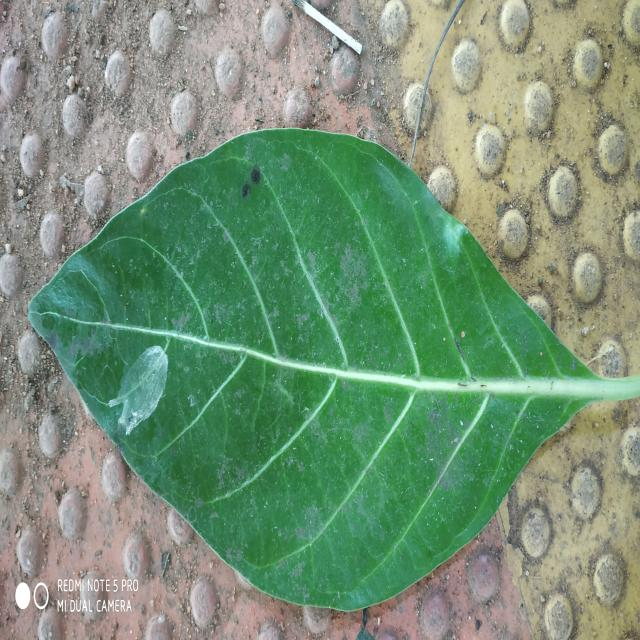nooni: (29, 129, 640, 611)
